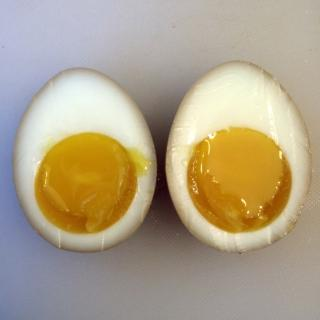Egg: (165, 58, 313, 253), (10, 66, 157, 252)
